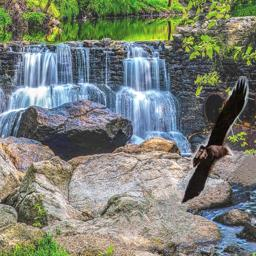Crow: (181, 76, 249, 206)
